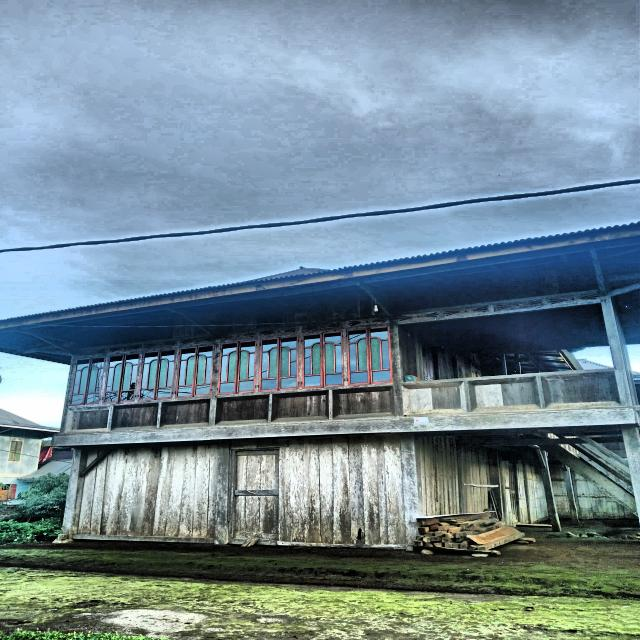column: (401, 432, 423, 546), (62, 445, 88, 539), (214, 439, 231, 545)
door: (234, 450, 280, 540)
ornamen: (540, 371, 621, 408), (468, 376, 541, 412), (402, 381, 467, 416), (332, 385, 395, 419), (271, 390, 329, 423), (215, 394, 269, 426), (160, 399, 211, 428), (111, 403, 159, 431), (65, 406, 111, 433)
roof: (0, 222, 640, 329), (0, 409, 59, 433)
stair: (534, 426, 640, 518)
wall: (215, 293, 395, 428), (64, 319, 215, 435), (279, 432, 406, 544), (77, 440, 218, 538), (0, 428, 42, 478)
window: (346, 325, 393, 386), (302, 330, 344, 389), (258, 335, 298, 392), (217, 339, 257, 395), (175, 344, 215, 398), (138, 348, 177, 401), (102, 352, 140, 404), (69, 355, 106, 406), (8, 441, 23, 461)
